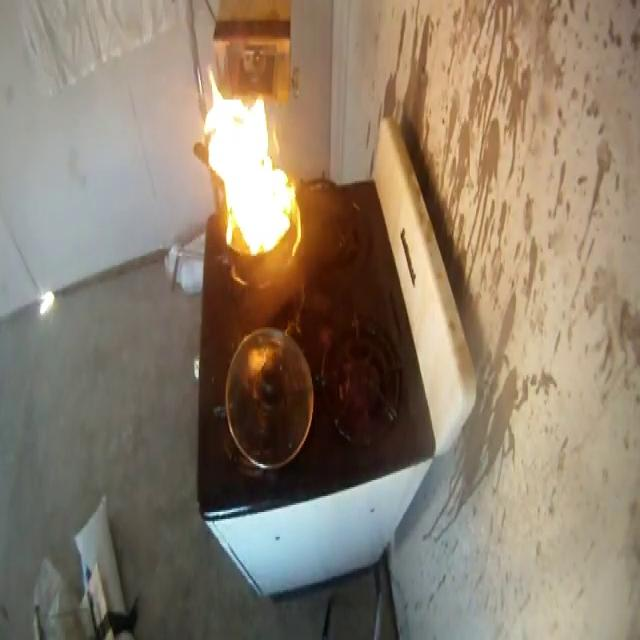fire: (186, 59, 319, 295)
